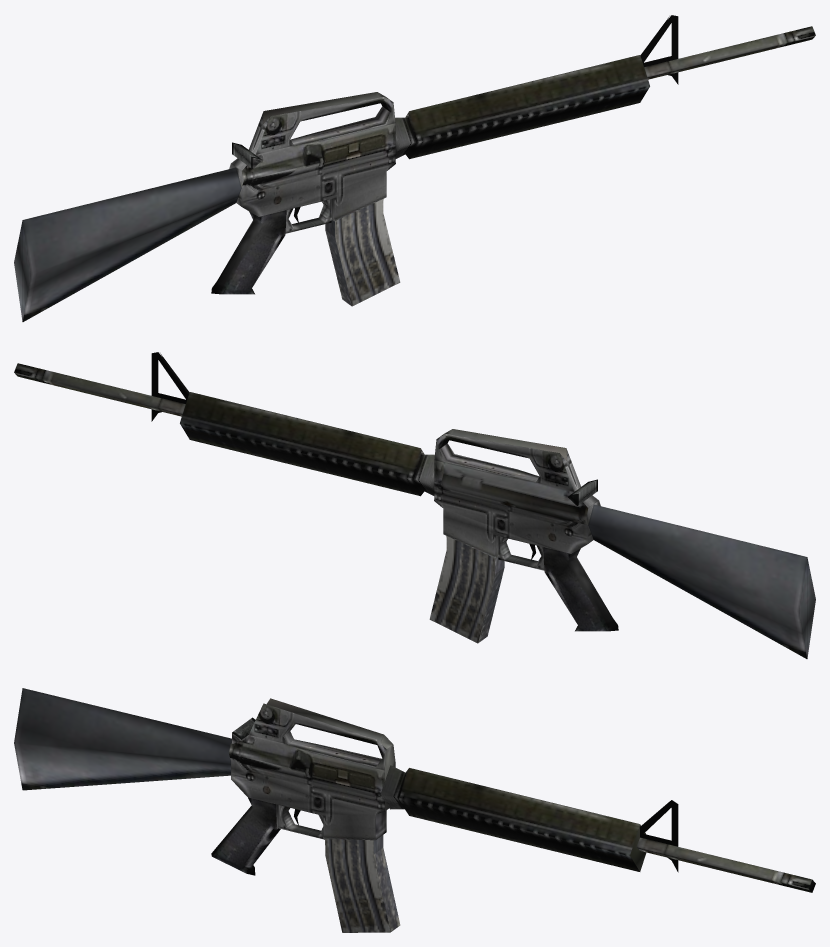
3 renders of one model, top to bottom at view 1: azimuth 30°, elevation 25°; view 2: azimuth 150°, elevation 25°; view 3: azimuth 330°, elevation 25°, orthographic.
Parts seen in each view (by area): view 1: M16, M16_Mag; view 2: M16, M16_Mag; view 3: M16, M16_Mag.
Part boxes in pixels (<box>): M16: <box>14,15,815,321</box>; M16_Mag: <box>325,199,400,306</box>; M16: <box>14,352,815,658</box>; M16_Mag: <box>429,536,504,643</box>; M16: <box>14,688,815,892</box>; M16_Mag: <box>325,835,400,932</box>.
Size of the model in its own units: 4.39 by 1.11 by 0.1999.
2 materials, 2 textured.
